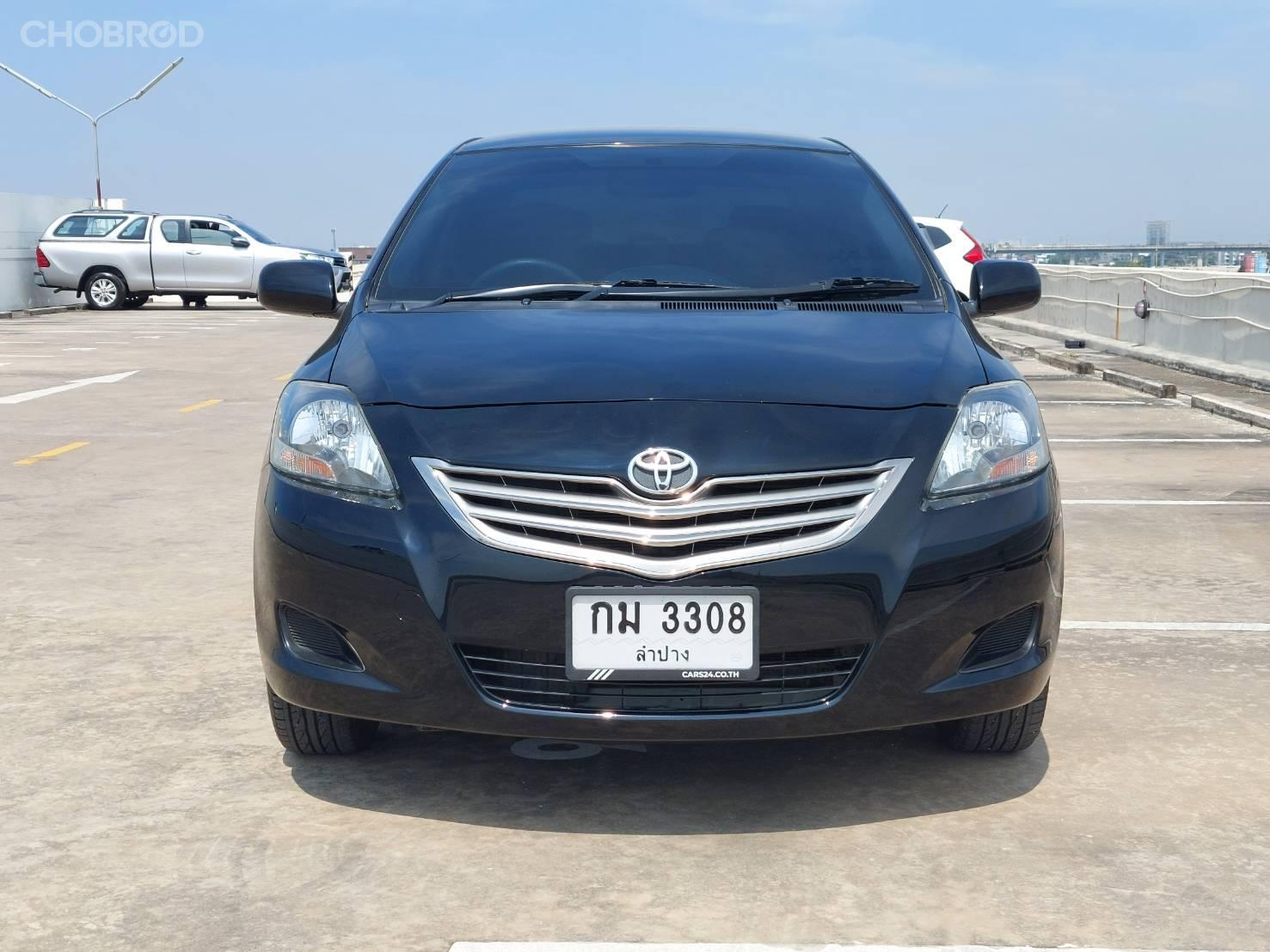license-plate: (567, 581, 758, 683)
